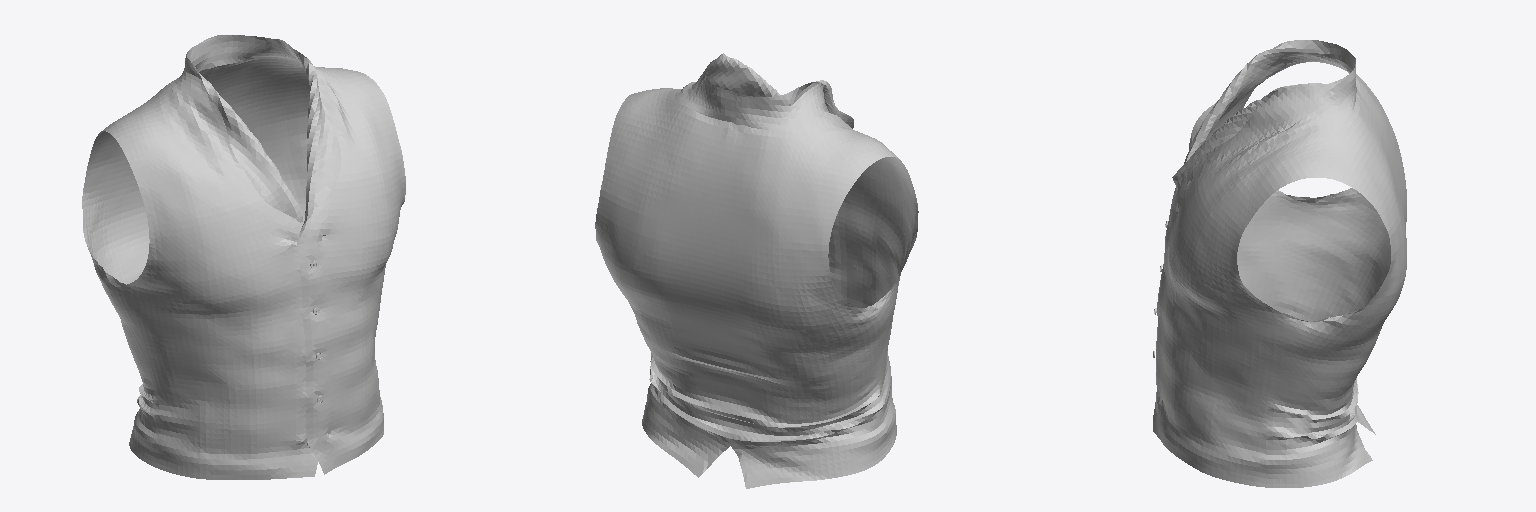
The model's file is Gilet_Pos.obj.
The picture shows the model from 3 angles: view 1: azimuth 30°, elevation 25°; view 2: azimuth 150°, elevation 25°; view 3: azimuth 270°, elevation 25°; orthographic projection.
Visible parts, largest first — view 1: Gilet_Pos; view 2: Gilet_Pos; view 3: Gilet_Pos.
Part boxes in pixels (x1,y1,x2,y2): Gilet_Pos: (82, 35, 405, 479); Gilet_Pos: (595, 53, 918, 488); Gilet_Pos: (1153, 40, 1406, 487).
Size of the model in its own units: 21.08 by 30.11 by 17.95.